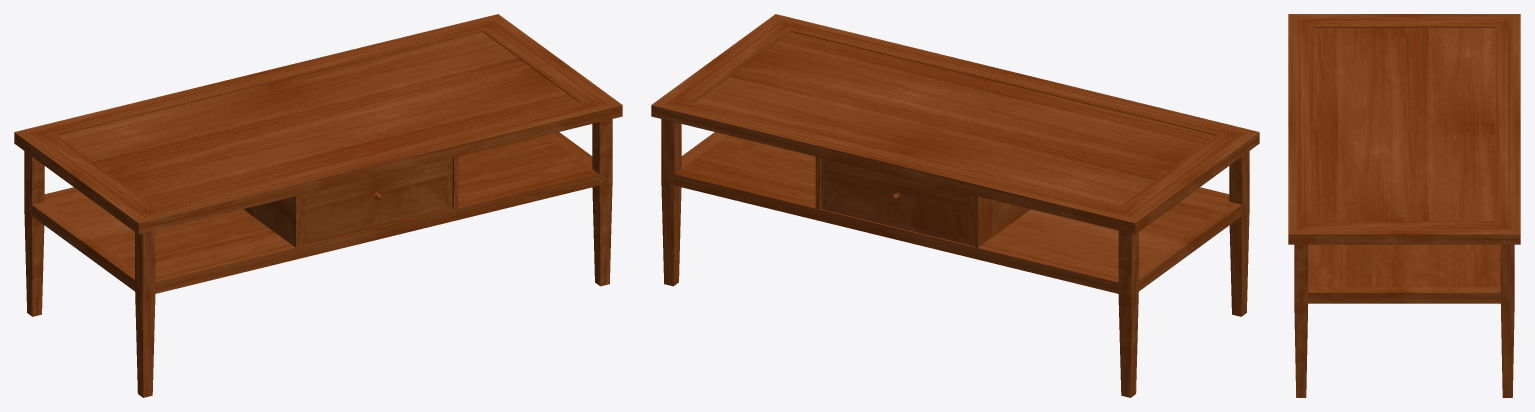
Rendered from sh_scopia_saloon_table.glb.
The picture shows the model from 3 angles, left to right: view 1: azimuth 30°, elevation 25°; view 2: azimuth 150°, elevation 25°; view 3: azimuth 270°, elevation 25°; orthographic projection. The views are drawn at different scales.
Size of the model in its own units: 1.44 by 0.511 by 0.641.
Materials: 1 (1 with a texture image).
